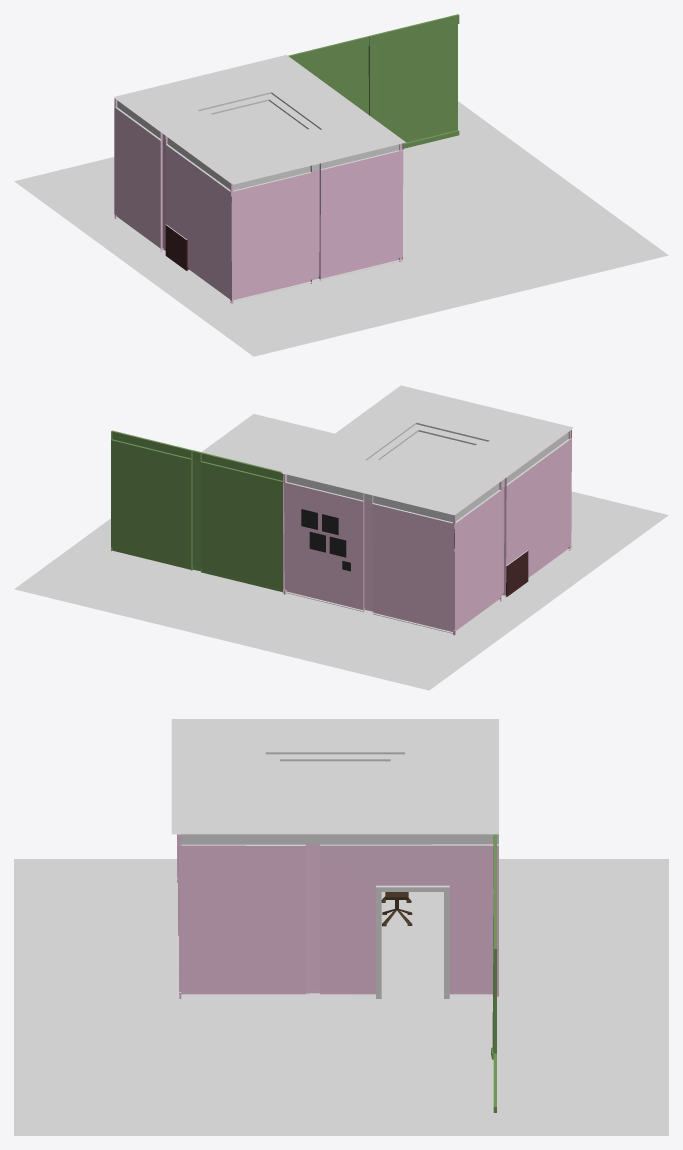
The model's file is uploads_files_2348891_table+things+set.fbx.
3 renders of one model, top to bottom at view 1: azimuth 30°, elevation 25°; view 2: azimuth 150°, elevation 25°; view 3: azimuth 270°, elevation 25°, orthographic. The views are drawn at different scales.
Parts seen in each view (by area): view 1: Plane.001, Plane, wall 1.001, wall 1, wall 1.002, off table, flooe; view 2: Plane.001, wall 1.002, Plane, wall 1.003, wall 1, photo frame 1, off table, flooe; view 3: Plane.001, wall with gate, Plane, flooe, gate border, wall 1.002.
Boxes of the visible parts, <box> form: Plane.001: <box>14,101,668,356</box>; Plane: <box>114,55,405,184</box>; wall 1.001: <box>230,143,403,303</box>; wall 1: <box>114,98,233,303</box>; wall 1.002: <box>288,14,459,148</box>; off table: <box>165,224,188,270</box>; flooe: <box>114,193,403,302</box>; Plane.001: <box>14,414,668,690</box>; wall 1.002: <box>111,430,282,592</box>; Plane: <box>281,385,573,514</box>; wall 1.003: <box>283,474,455,634</box>; wall 1: <box>453,429,571,635</box>; photo frame 1: <box>301,509,350,571</box>; off table: <box>454,529,528,596</box>; flooe: <box>283,524,571,633</box>; Plane.001: <box>14,859,668,1135</box>; wall with gate: <box>179,834,498,996</box>; Plane: <box>171,719,498,834</box>; flooe: <box>177,883,492,996</box>; gate border: <box>376,885,449,998</box>; wall 1.002: <box>491,834,496,1112</box>.
Bounding box in the file's own units: 6439 × 1810 × 6439.
